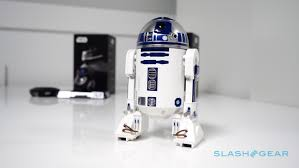r2d2: (116, 16, 204, 149)
